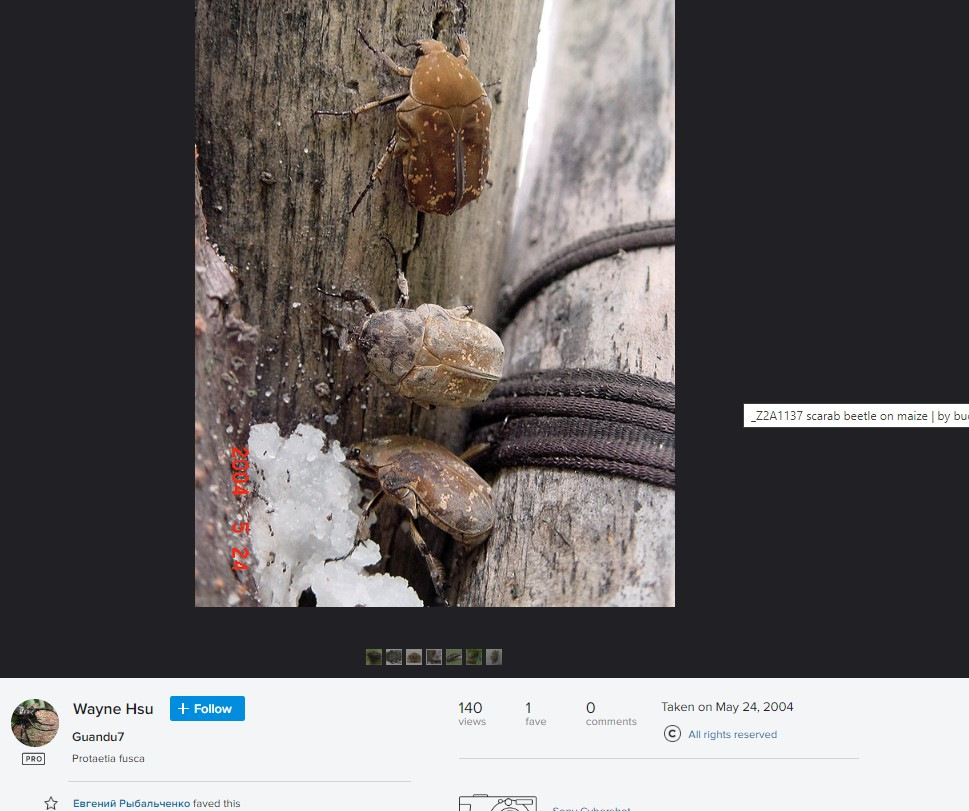Protaetia_fusca: (317, 2, 491, 262), (309, 267, 509, 418), (316, 427, 502, 587)
